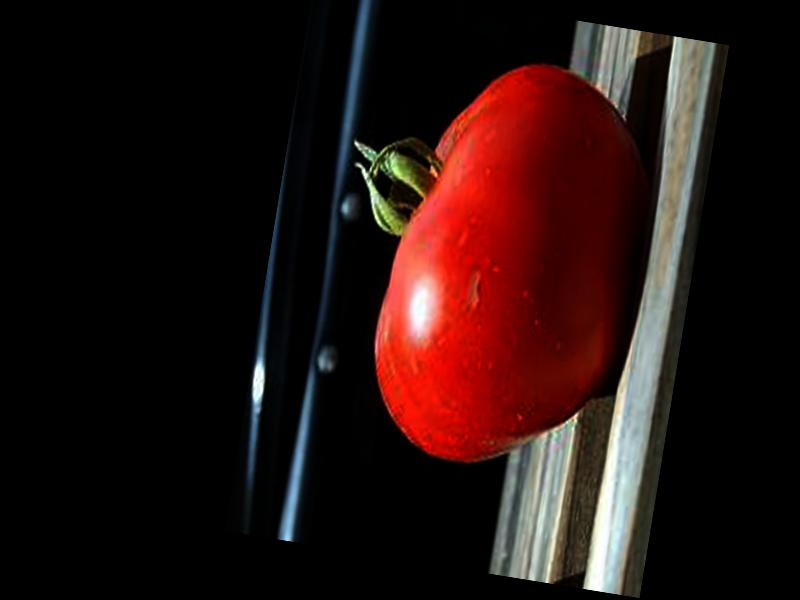Tomato: (308, 37, 664, 484)
